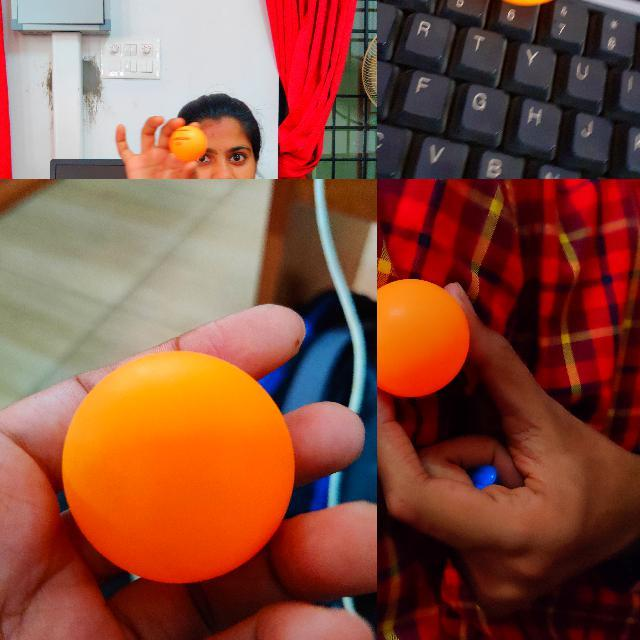ping-pong-ball: (60, 352, 294, 582), (377, 278, 469, 396), (170, 125, 206, 159)
